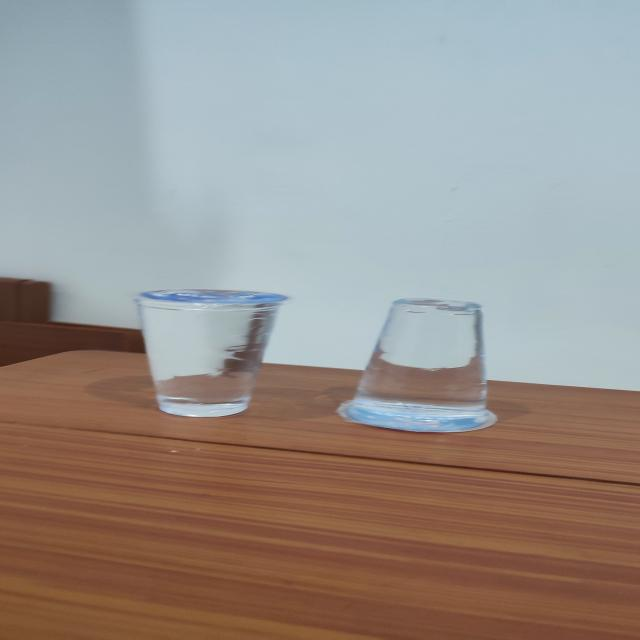air gelas: (319, 293, 504, 439), (124, 265, 288, 425)
